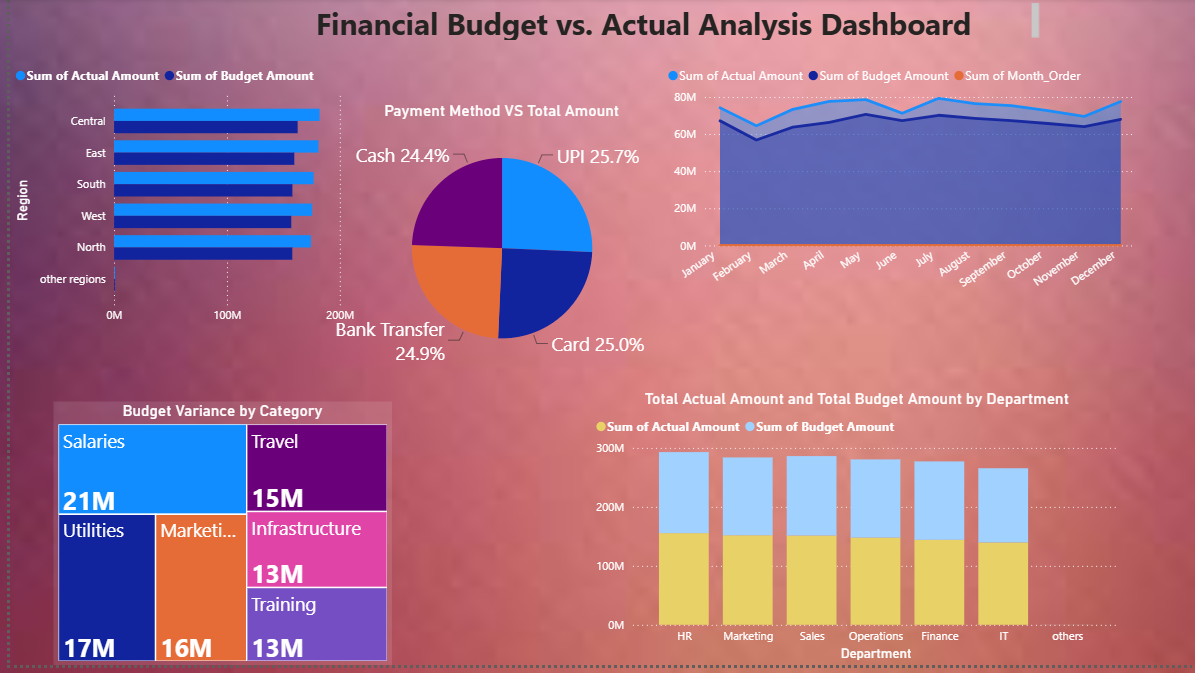

The dashboard page shown, as its layout file describes it:
{"tool":"powerbi","page":{"name":"Page 1","canvas":[1280,720],"ordinal":0},"visuals":[{"type":"columnChart","title":"Total Actual Amount and Total  Budget Amount by Department","fields":{"Category":["Sheet1.Department"],"Y":["Sum(Sheet1.Actual Amount)","Sum(Sheet1.Budget Amount)"]},"box":[626.7,423.3,575,296.7],"z":0},{"type":"areaChart","fields":{"Category":["Sheet1.Month Name"],"Y":["Sum(Sheet1.Actual Amount)","Sum(Sheet1.Budget Amount)","Sum(Sheet1.Month_Order)"]},"box":[705,63.3,515,271.7],"z":1000},{"type":"pieChart","title":"Payment Method VS Total Amount","fields":{"Category":["Sheet1.Payment Method"],"Y":["Sum(Sheet1.Actual Amount)"]},"box":[340,111.7,381.7,296.7],"z":2000},{"type":"clusteredBarChart","fields":{"Category":["Sheet1.Region"],"Y":["Sum(Sheet1.Actual Amount)","Sum(Sheet1.Budget Amount)"]},"box":[0,63.3,376.7,296.7],"z":3000},{"type":"treemap","fields":{"Group":["Sheet1.Category"],"Values":["Sheet1.Budget Variance"]},"box":[46.7,435,365,285],"z":4000},{"type":"textbox","box":[325,0,790,50],"z":4001}]}

Visuals, with their boxes in screenshot pixels (x1, y1, x2, y2), scaled from the page's 1280x720 canvas onto the 1195x673 screenshot:
"Total Actual Amount and Total  Budget Amount by Department" columnChart: [x1=585, y1=396, x2=1122, y2=672]
areaChart - Sheet1.Month Name x Sum(Sheet1.Actual Amount): [x1=658, y1=59, x2=1139, y2=313]
"Payment Method VS Total Amount" pieChart: [x1=317, y1=104, x2=674, y2=382]
clusteredBarChart - Sheet1.Region x Sum(Sheet1.Actual Amount): [x1=0, y1=59, x2=352, y2=336]
treemap - Sheet1.Category x Sheet1.Budget Variance: [x1=44, y1=407, x2=384, y2=672]
textbox: [x1=303, y1=0, x2=1041, y2=47]
